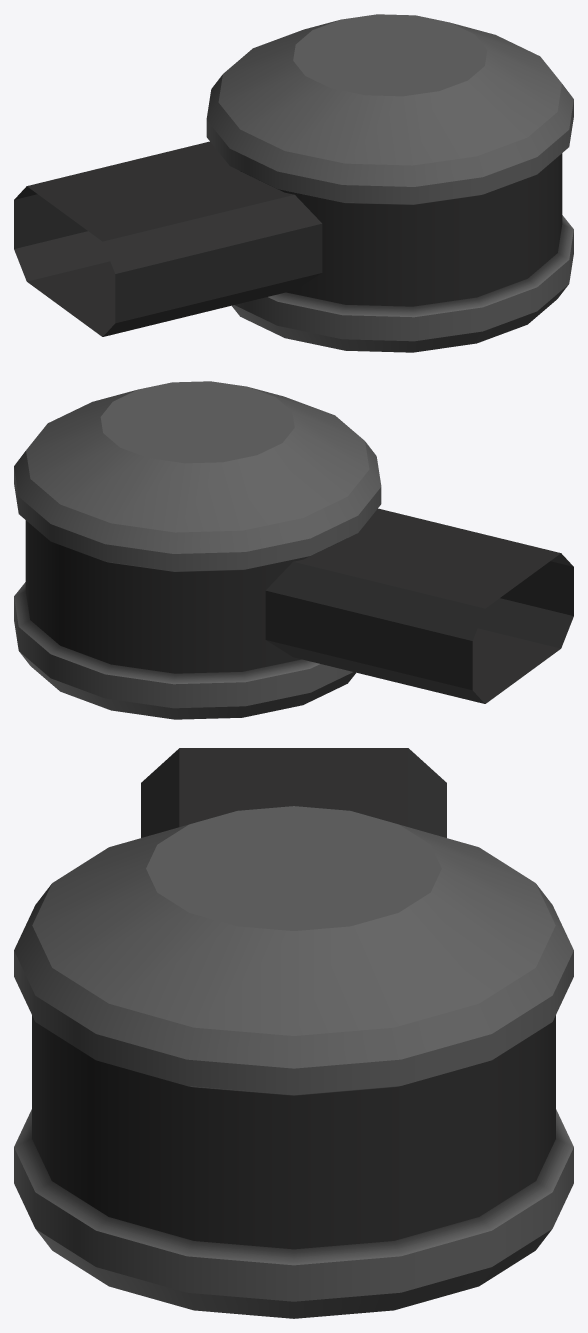
Rendered from Turret_003_Part_01.fbx.
3 views of the same model, one above another, from view 1: azimuth 30°, elevation 25°; view 2: azimuth 150°, elevation 25°; view 3: azimuth 270°, elevation 25° (orthographic). The views are drawn at different scales.
Parts seen in each view (by area): view 1: Turret_003_Part_01; view 2: Turret_003_Part_01; view 3: Turret_003_Part_01.
Boxes of the visible parts, left/top/right/bottom form: Turret_003_Part_01: left=14, top=14, right=573, bottom=352; Turret_003_Part_01: left=14, top=381, right=573, bottom=719; Turret_003_Part_01: left=14, top=748, right=573, bottom=1318.
Size of the model in its own units: 99.34 by 65.6 by 49.62.
